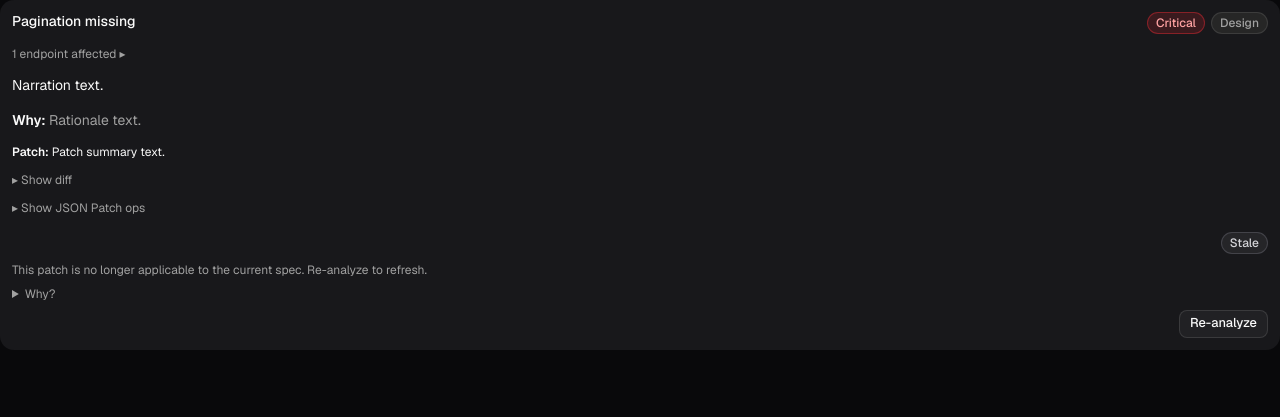
Test case: FindingCard — stale-card UI › renders the "Why?" collapsible with staleReason content when set
The width and height of the screenshot is (1280, 417).
Click the heading "Why?": (40, 294) x1=25 y1=286 x2=56 y2=302
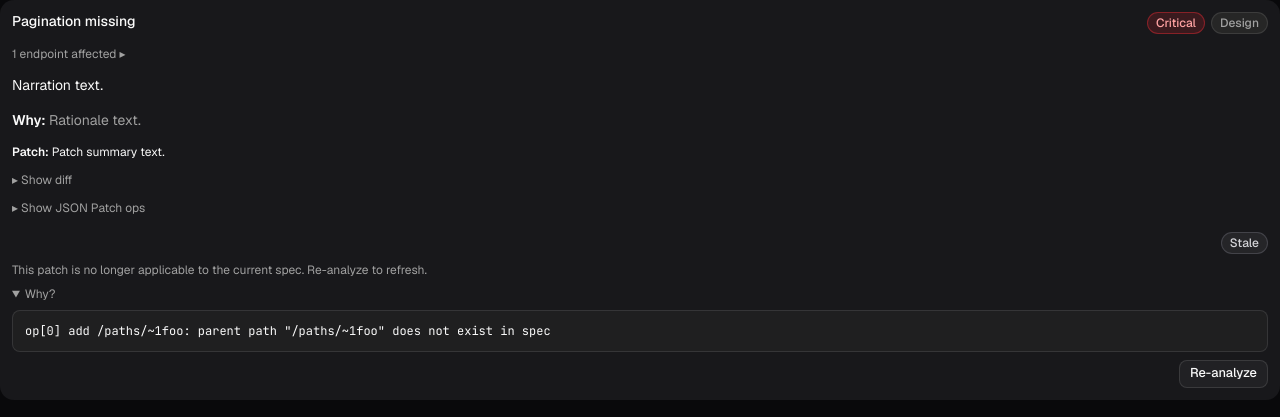
Now the text "op[0] add /paths/~1foo: parent path \"/paths/~1foo\" does not exist in spec" is shown, box x1=12 y1=310 x2=1268 y2=352
